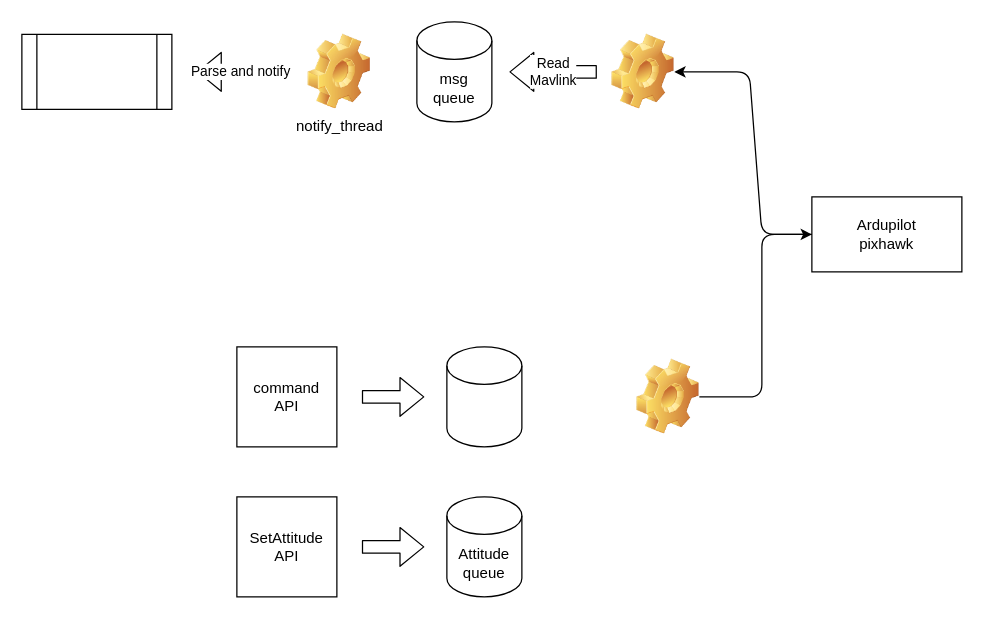
This 984x619 diagram has some shape labels left out. Each missing label, with the centre of its shape:
"events cb handlers" goes at (x=96, y=71).
"mav_in_thread" goes at (x=642, y=71).
"mav_out thread" goes at (x=667, y=396).
